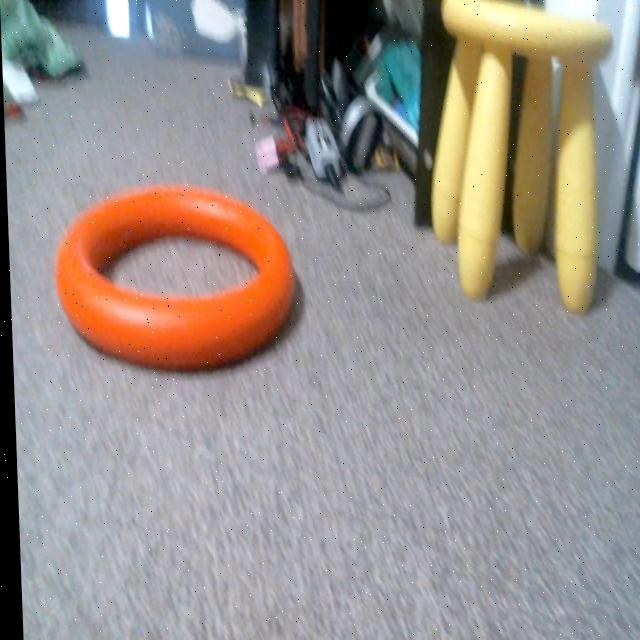note: (49, 182, 296, 384)
